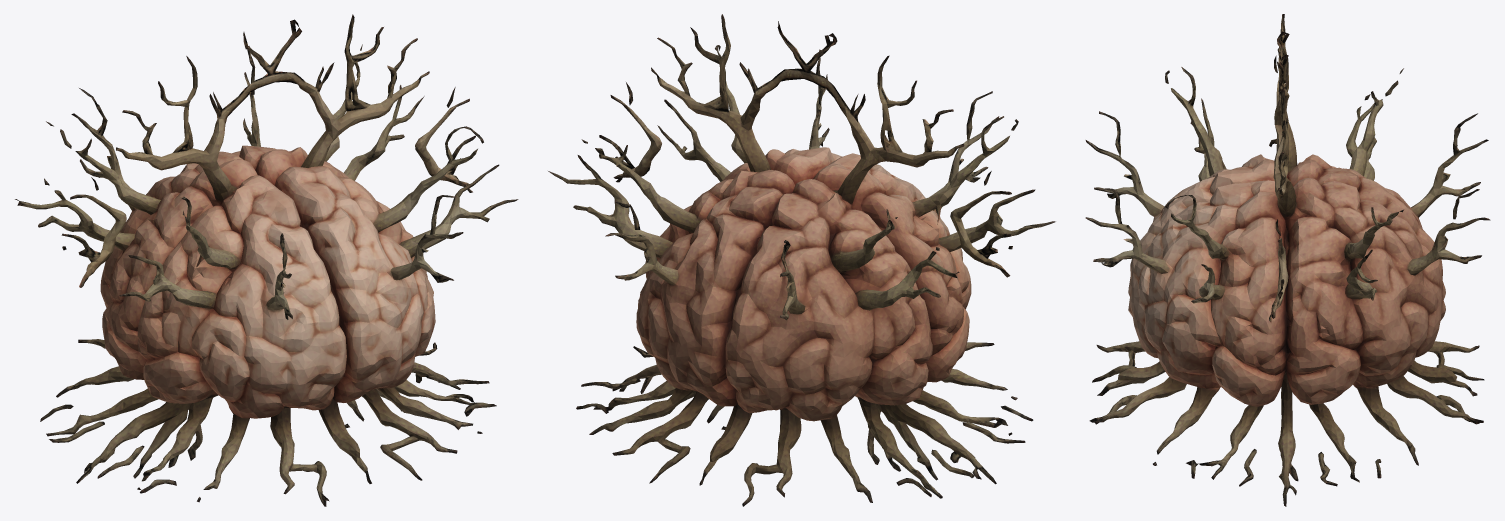
The model's file is branch-brain.glb.
The picture shows the model from 3 angles, left to right: view 1: azimuth 30°, elevation 25°; view 2: azimuth 150°, elevation 25°; view 3: azimuth 270°, elevation 25°; orthographic projection. The views are drawn at different scales.
Parts seen in each view (by area): view 1: world; view 2: world; view 3: world.
Boxes of the visible parts, box(x1,y1,x2,y2) form: world: box(15, 14, 518, 506); world: box(548, 14, 1055, 506); world: box(1085, 14, 1490, 506).
Size of the model in its own units: 0.9989 by 0.973 by 0.9204.
1 material, 1 textured.
